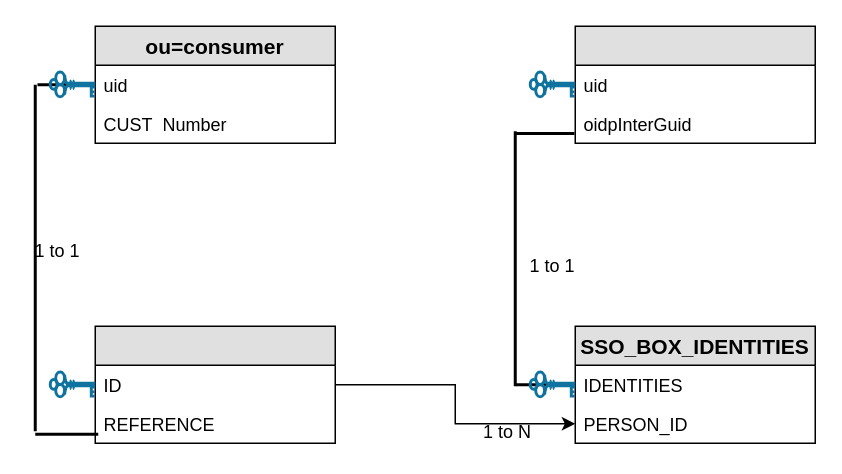
Some shapes in this 842 by 474 pixel diagram are drawn without their labels. Here are the shapes that lost their labels. From the top down, the box of each, then its label:
(574, 25, 815, 143): ou=owneridp
(94, 325, 335, 443): SSO_BOX_PEOPLE
